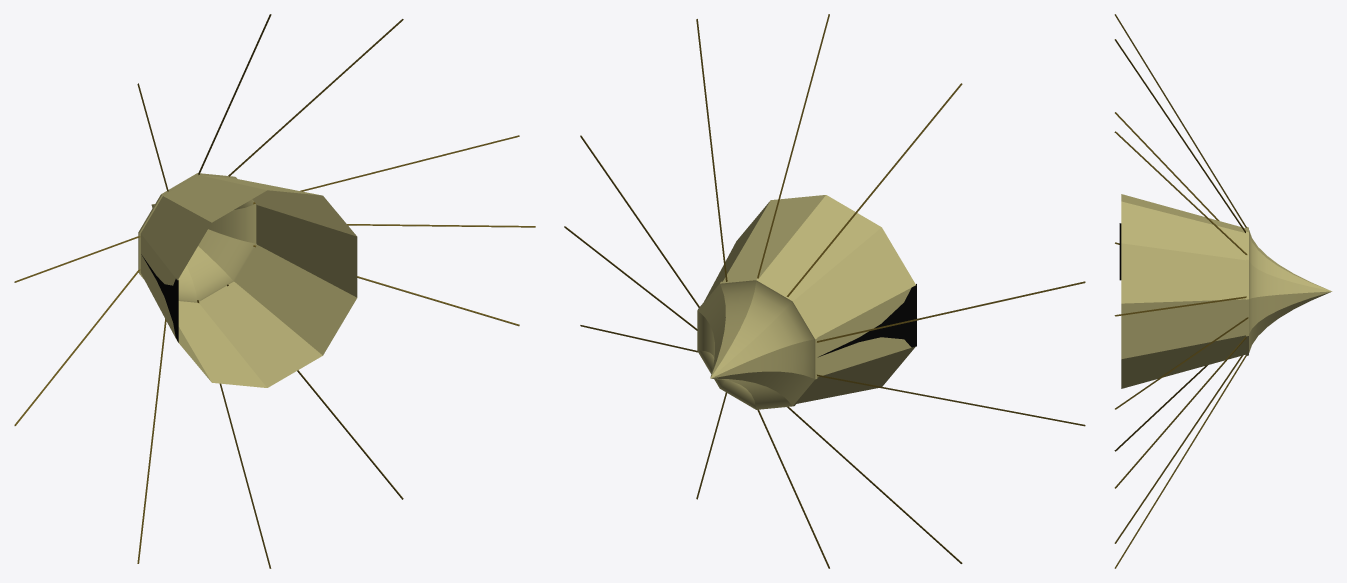
Rendered from BaseBuildingTent.fbx.
The picture shows the model from 3 angles, left to right: view 1: azimuth 30°, elevation 25°; view 2: azimuth 150°, elevation 25°; view 3: azimuth 270°, elevation 25°; orthographic projection. The views are drawn at different scales.
Visible parts, largest first — view 1: Tent; view 2: Tent; view 3: Tent.
Part boxes in pixels (x1,y1,x2,y2): Tent: [14, 14, 535, 568]; Tent: [564, 14, 1085, 568]; Tent: [1114, 14, 1332, 568].
Size of the model in its own units: 3013 by 3064 by 1199.
